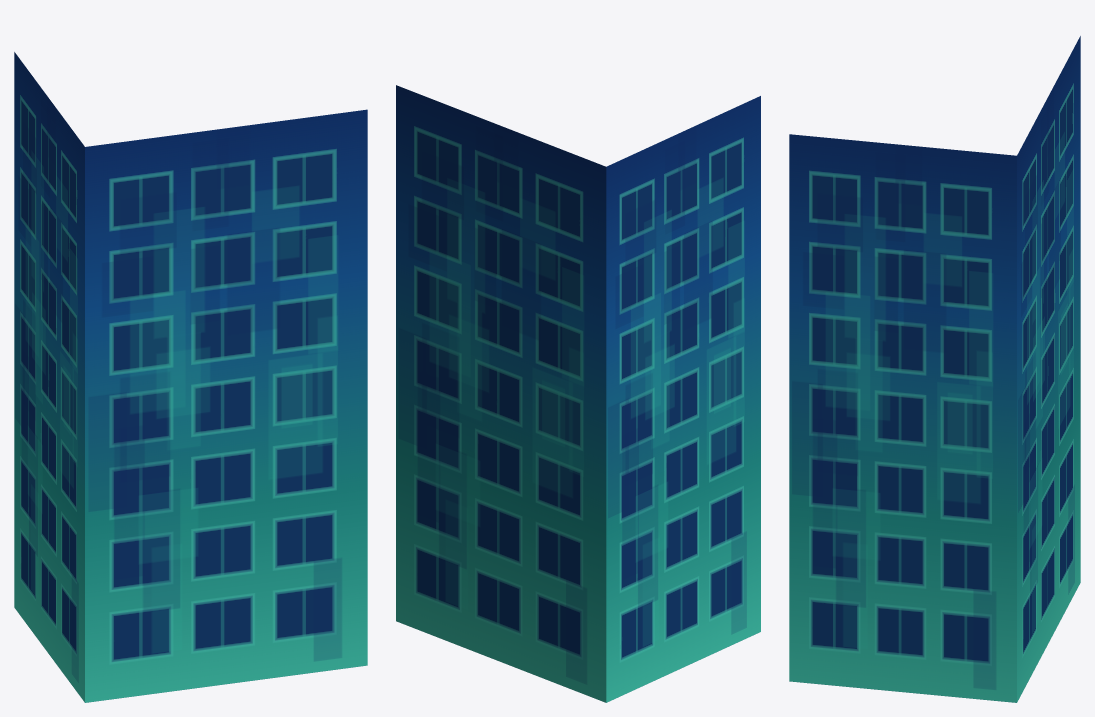
File: base_solar_cabin_rear_tower.glb
3 views of the same model, side by side, from view 1: azimuth 30°, elevation 25°; view 2: azimuth 150°, elevation 25°; view 3: azimuth 270°, elevation 25° (orthographic). The views are drawn at different scales.
Parts seen in each view (by area): view 1: 太阳能木屋-后侧楼体-海下基座-01.001; view 2: 太阳能木屋-后侧楼体-海下基座-01.001; view 3: 太阳能木屋-后侧楼体-海下基座-01.001.
Part boxes in pixels (x1,y1,x2,y2): 太阳能木屋-后侧楼体-海下基座-01.001: [14, 52, 367, 702]; 太阳能木屋-后侧楼体-海下基座-01.001: [396, 85, 760, 702]; 太阳能木屋-后侧楼体-海下基座-01.001: [789, 36, 1080, 702].
Size of the model in its own units: 13.23 by 23.82 by 11.49.
2 materials, 1 textured.
